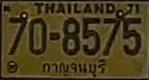0: (28, 17, 46, 54)
5: (122, 17, 141, 55), (82, 17, 100, 54)
7: (8, 17, 28, 54), (102, 17, 120, 55)
8: (62, 17, 79, 55)
KRI: (40, 57, 107, 78)
